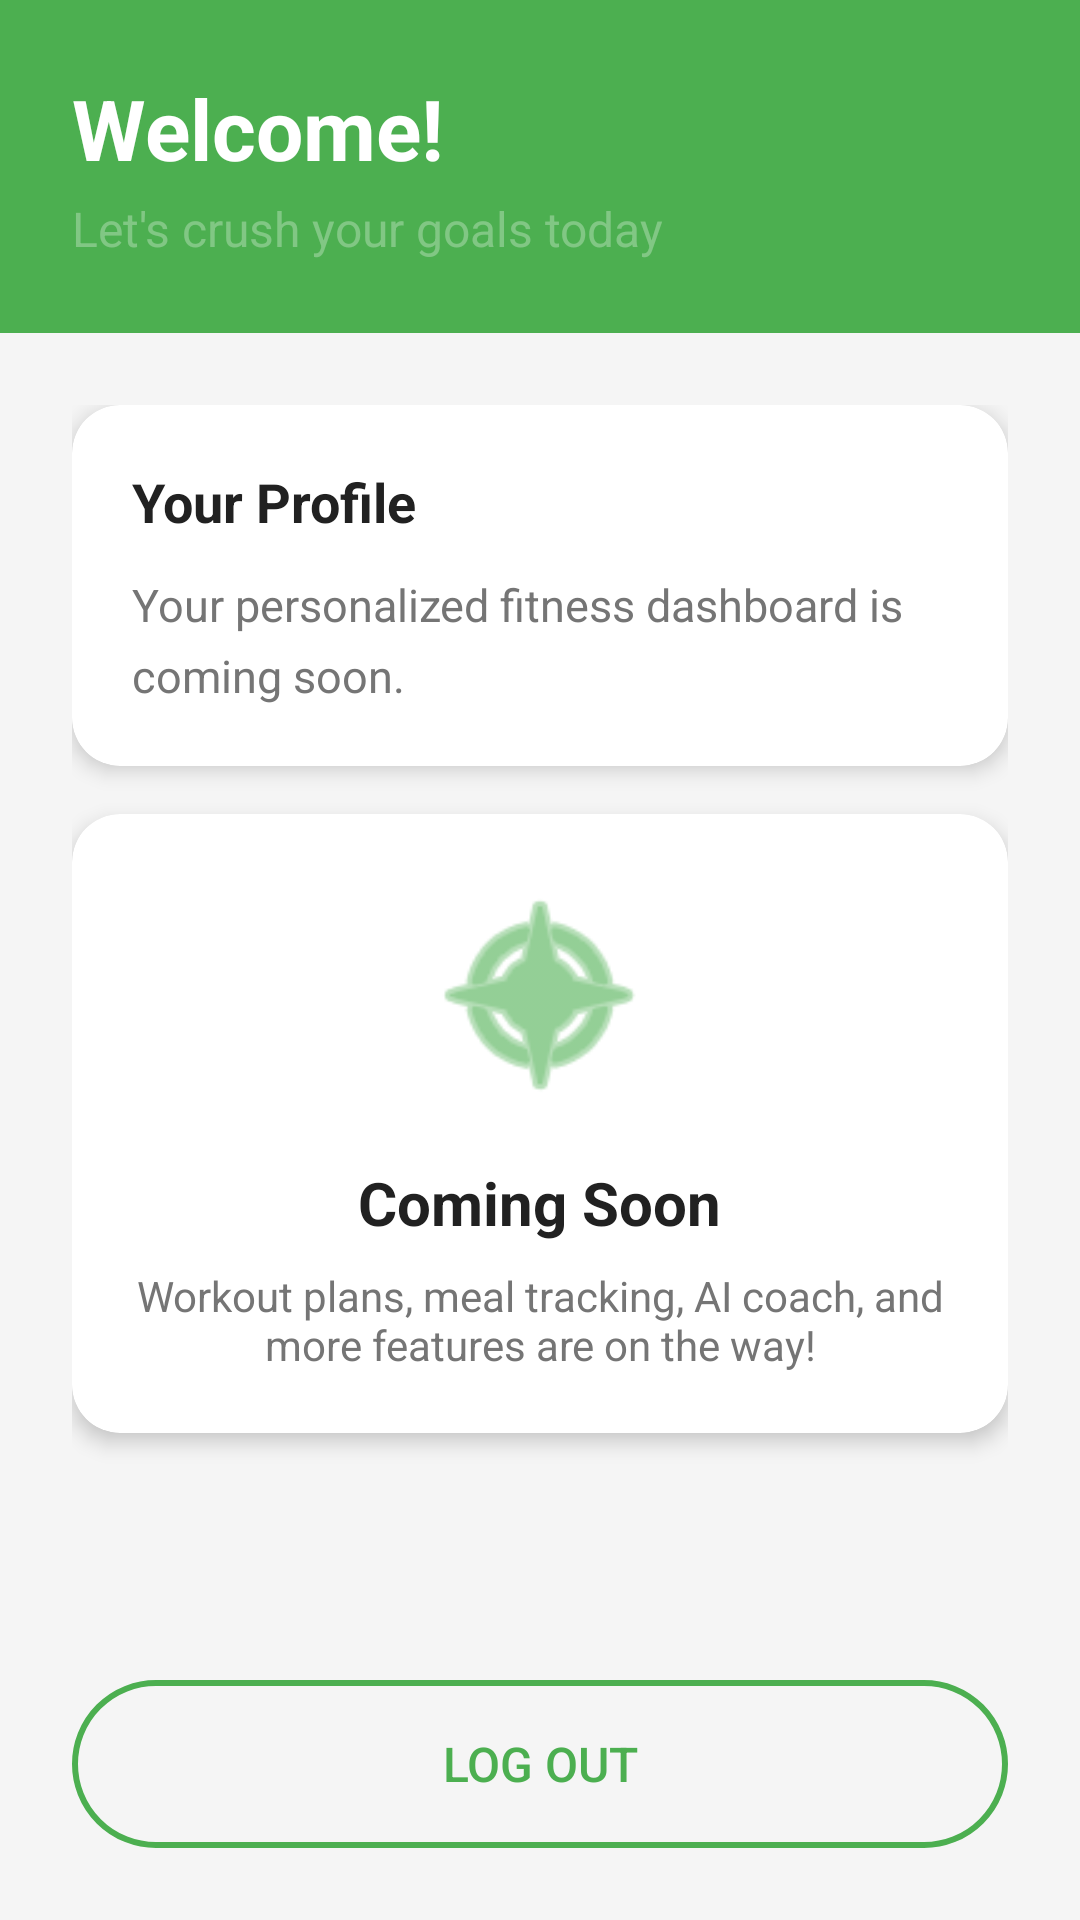

Locate icon controls on the screen. Image size 1080w x 1920h, boxes as (x1, y1, x2, y2).
compass: (445, 901, 634, 1090)
